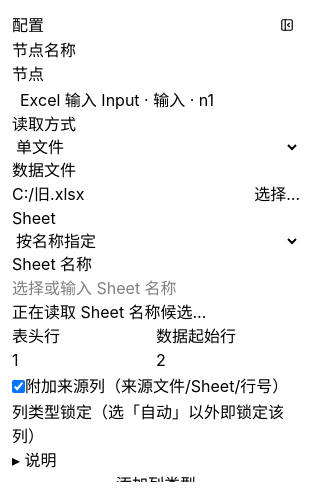
Scenario: 数据流配置区：Sheet 名称候选 › 切换文件清空旧候选，旧文件迟到结果不得覆盖新文件
Replace the text in the field labelled "数据文件" with "C:/新.xlsx" at (133, 194), box [12,182,254,206]
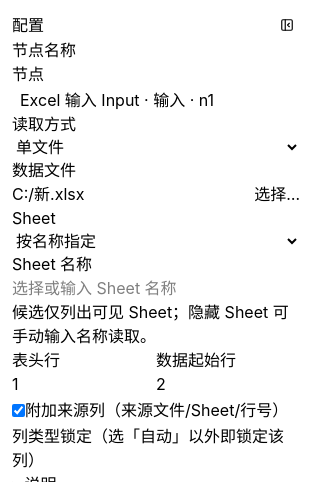
Check: the message "正在读取 Sheet 名称候选…" is gone
